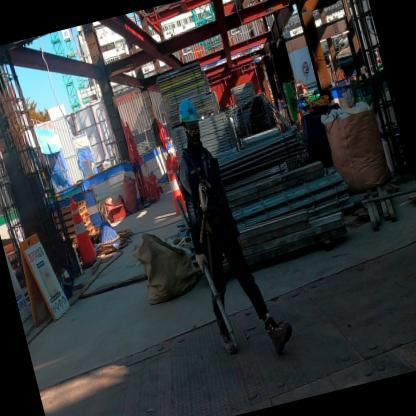Helmet: (176, 96, 208, 132)
safety-shoe: (258, 306, 305, 364), (213, 324, 247, 367)
